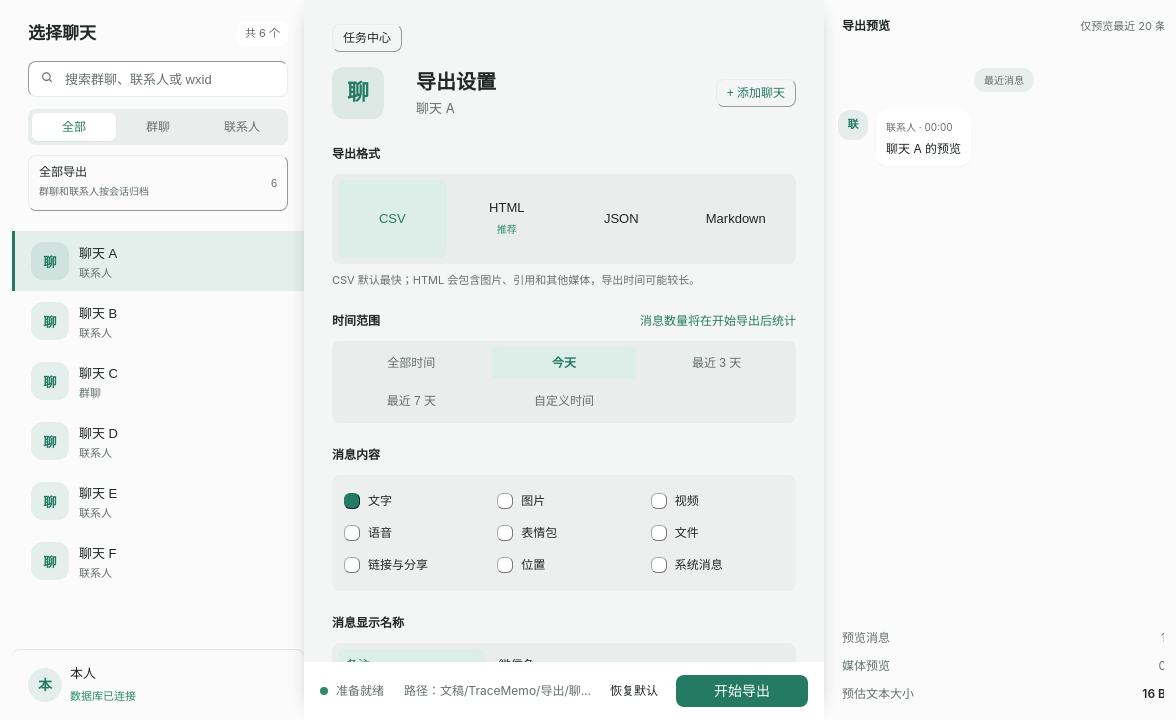
ExportWorkspace multi-chat selection › defaults to one chat, forces HTML after adding another, merges the preview, and resets locally
Expected: the text "聊天 A" is shown 2 times, [79,246,117,261]; [416,100,455,116]
Expected: the radio button labelled "CSV" is enabled, [338,180,446,258]
Click the button "+ 添加聊天" at (756, 93), box [716,79,796,107]
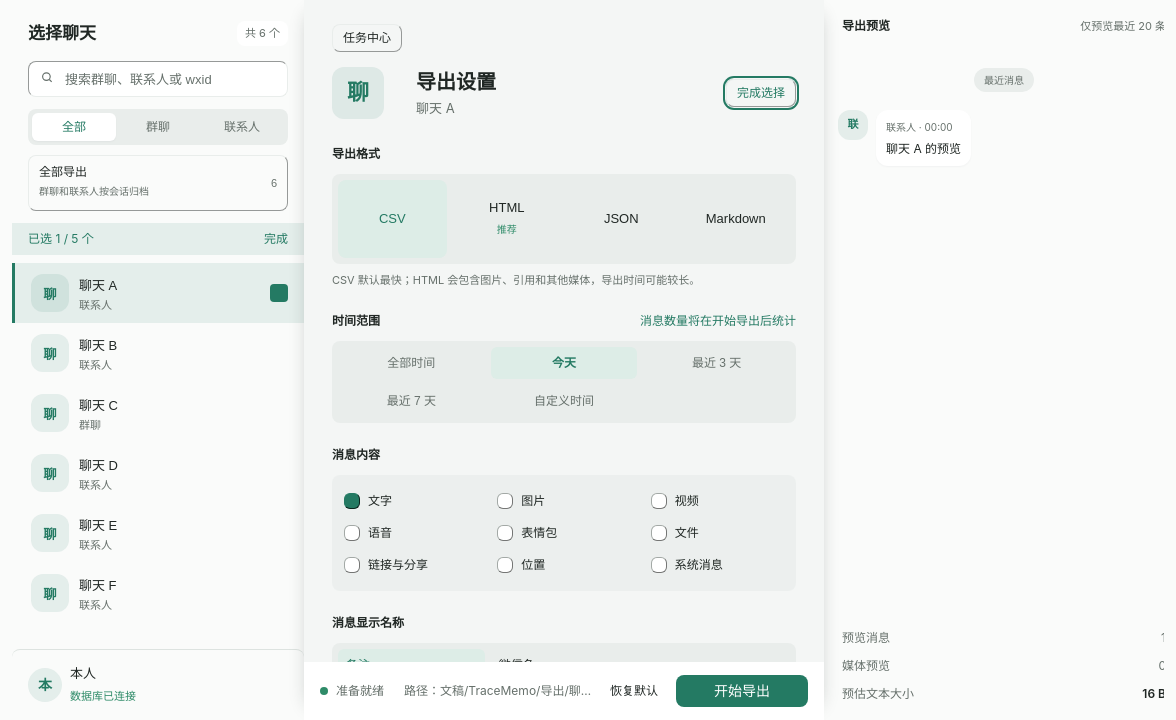
Click the button "聊 聊天 B 联系人" at (50, 353), box [12,323,304,383]
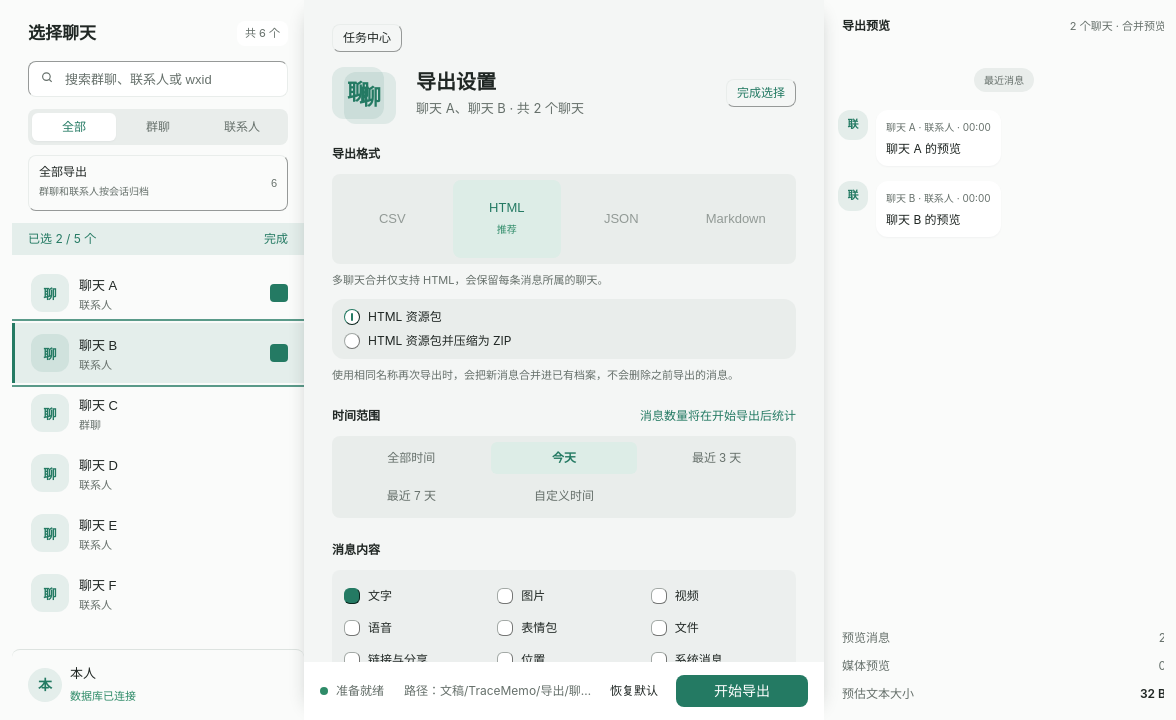
Result: the text "已选 2 / 5 个" is shown at [28,231,96,247]
Result: the radio button labelled "CSV" is disabled at [338,180,446,258]
Result: the radio button labelled "JSON" is disabled at [567,180,676,258]
Click the button "开始导出" at (742, 691), box [676,675,808,707]
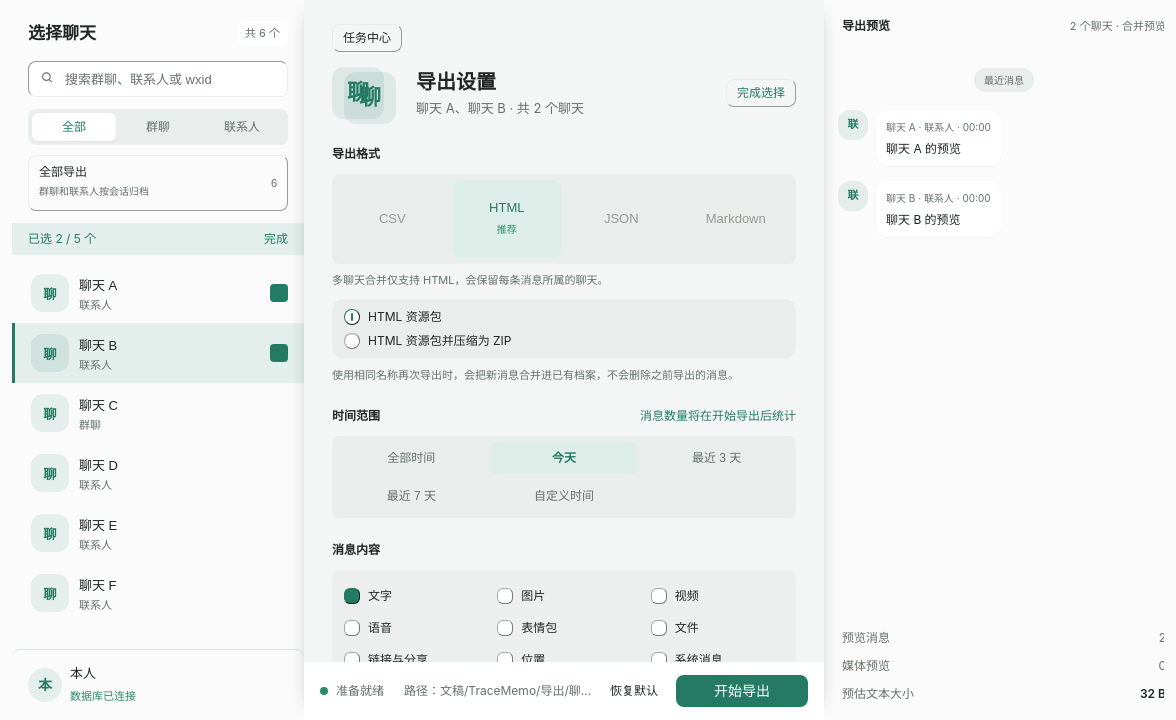
Click the button "恢复默认" at (634, 691), box [600,677,668,705]
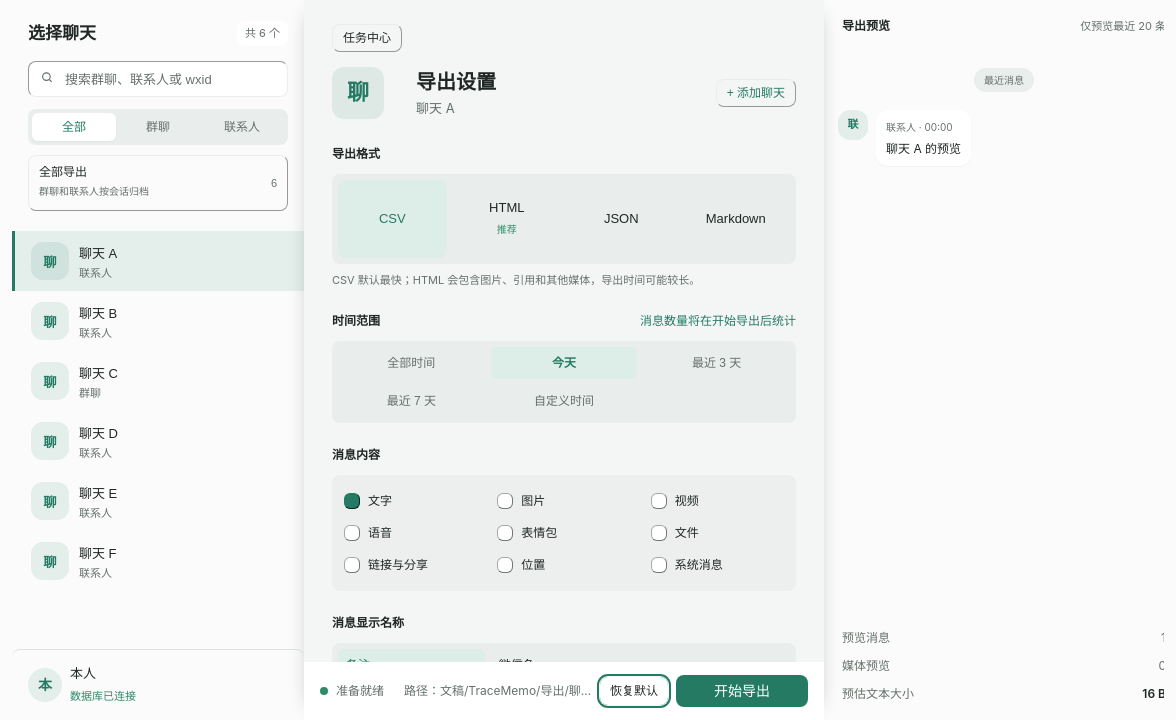
Result: the text "已选 2 / 5 个" is gone
Result: the radio button labelled "CSV" is enabled at [338,180,446,258]
